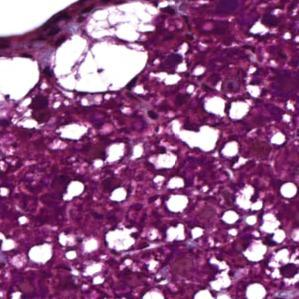ballooning: (49, 33, 150, 95), (84, 0, 161, 45)
